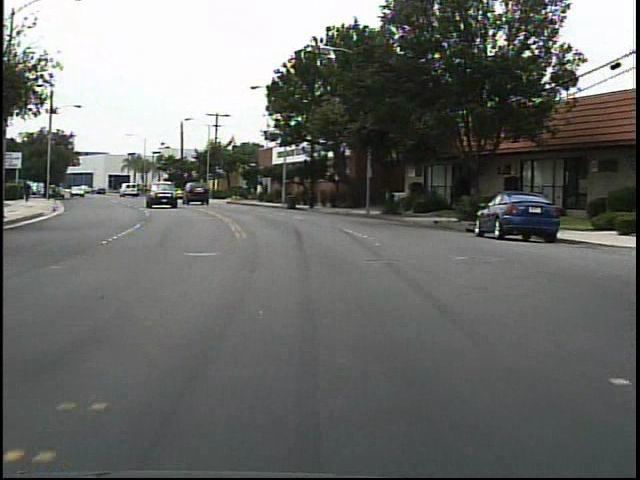person: (22, 182, 33, 205)
